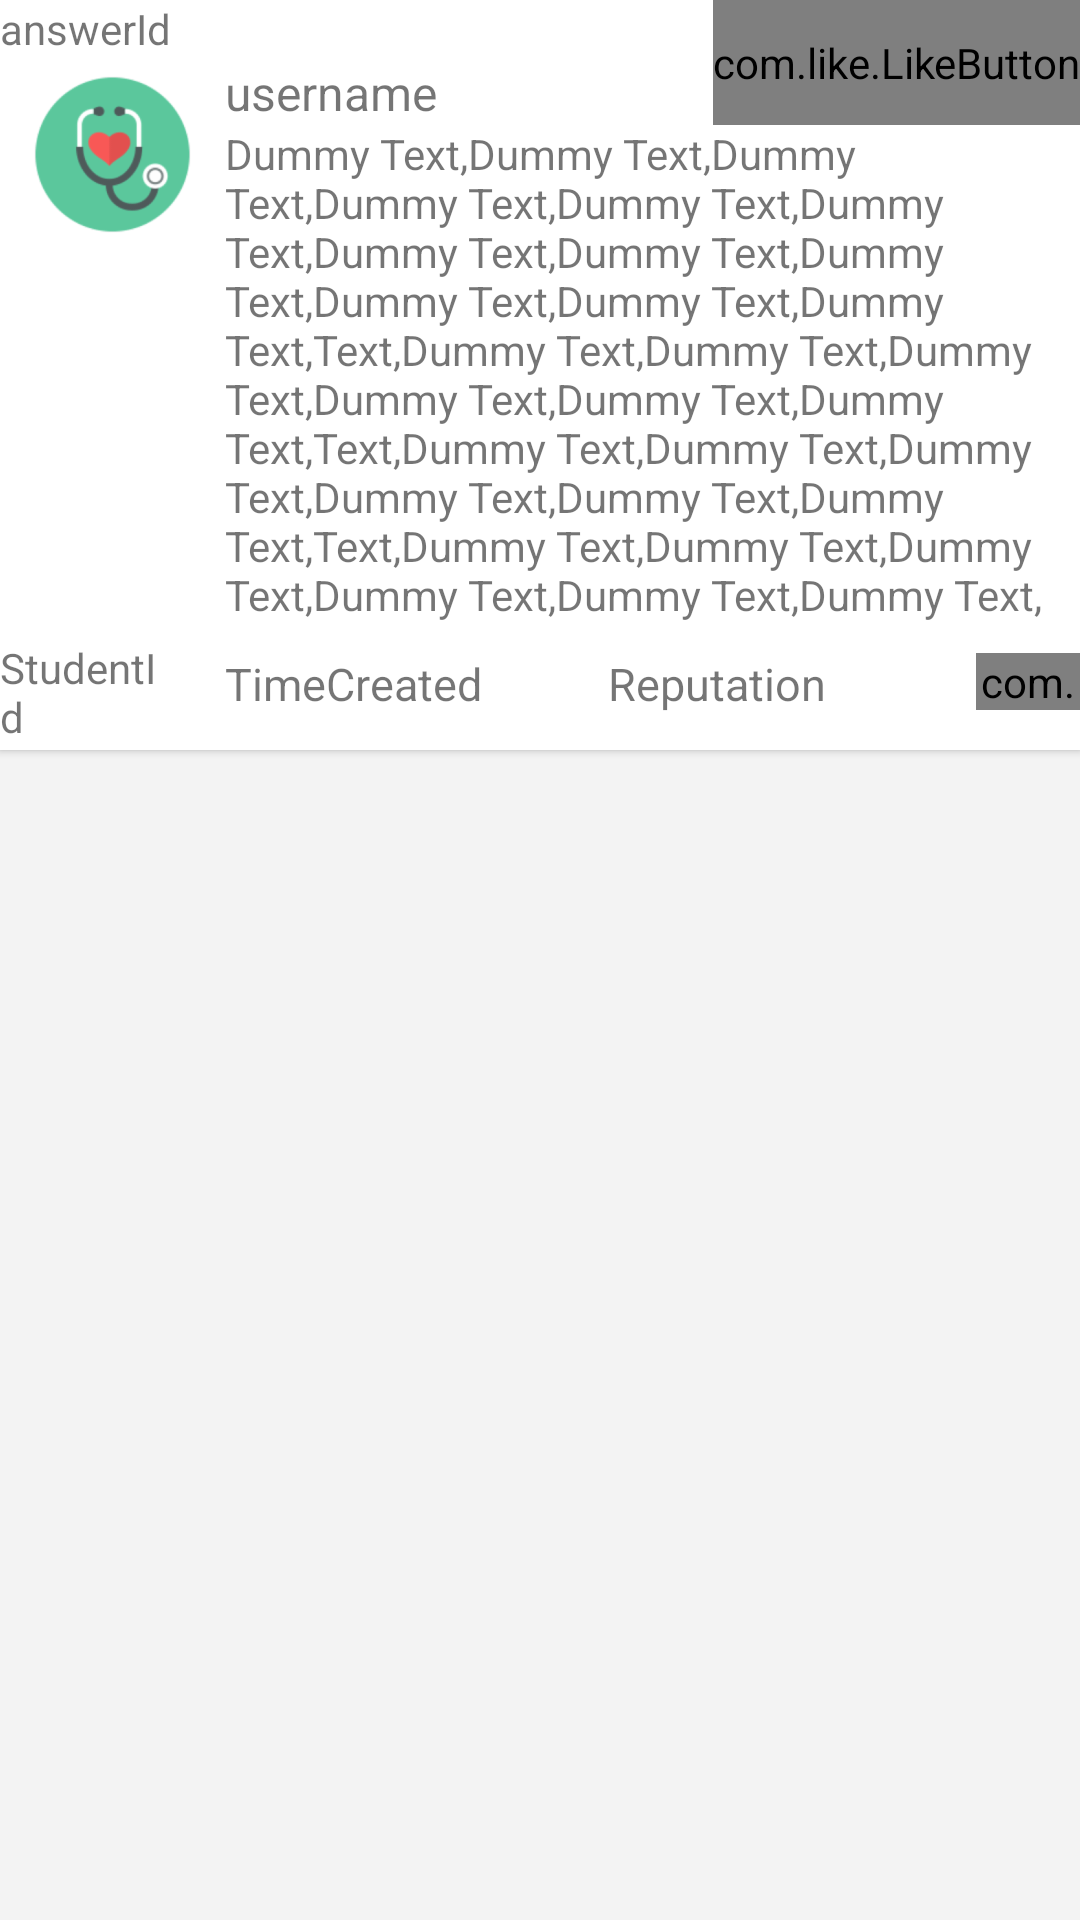

Icon bounding boxes for this 1080 x 1920 phone screenshot, format region(x1, y1, x2, y2):
medical: region(35, 77, 190, 232)
